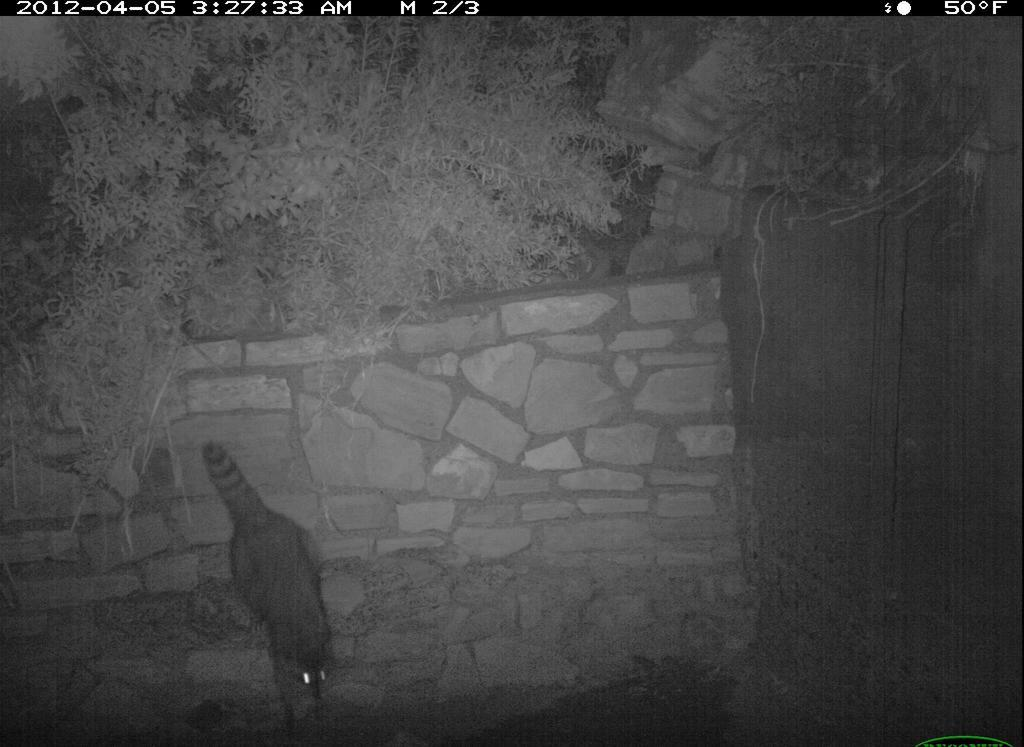raccoon: (191, 433, 344, 742)
